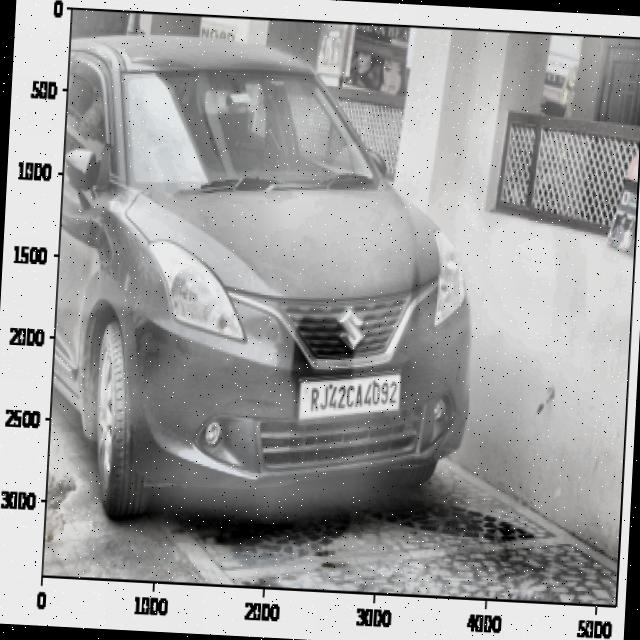license_plate: (302, 370, 404, 420)
